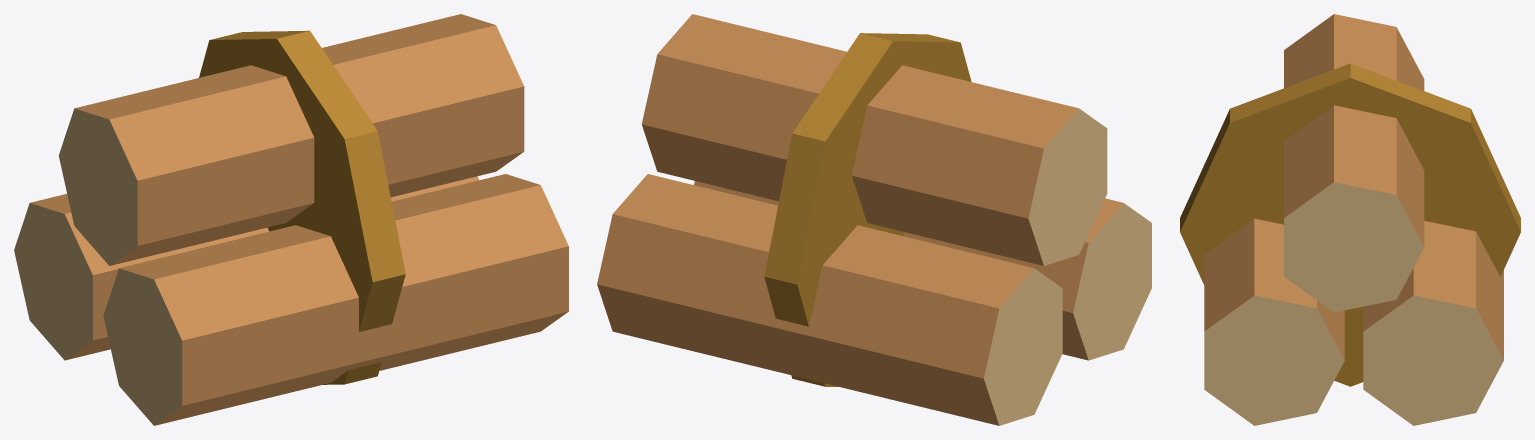
File: carry_logs.fbx
The picture shows the model from 3 angles, left to right: view 1: azimuth 30°, elevation 25°; view 2: azimuth 150°, elevation 25°; view 3: azimuth 270°, elevation 25°; orthographic projection. The views are drawn at different scales.
Visible parts, largest first — view 1: carry_logs; view 2: carry_logs; view 3: carry_logs.
Boxes of the visible parts, x1,y1,x2,y2 form: carry_logs: [14, 14, 568, 425]; carry_logs: [597, 14, 1151, 425]; carry_logs: [1180, 14, 1520, 425].
Bounding box in the file's own units: 0.07 × 0.06 × 0.06.
